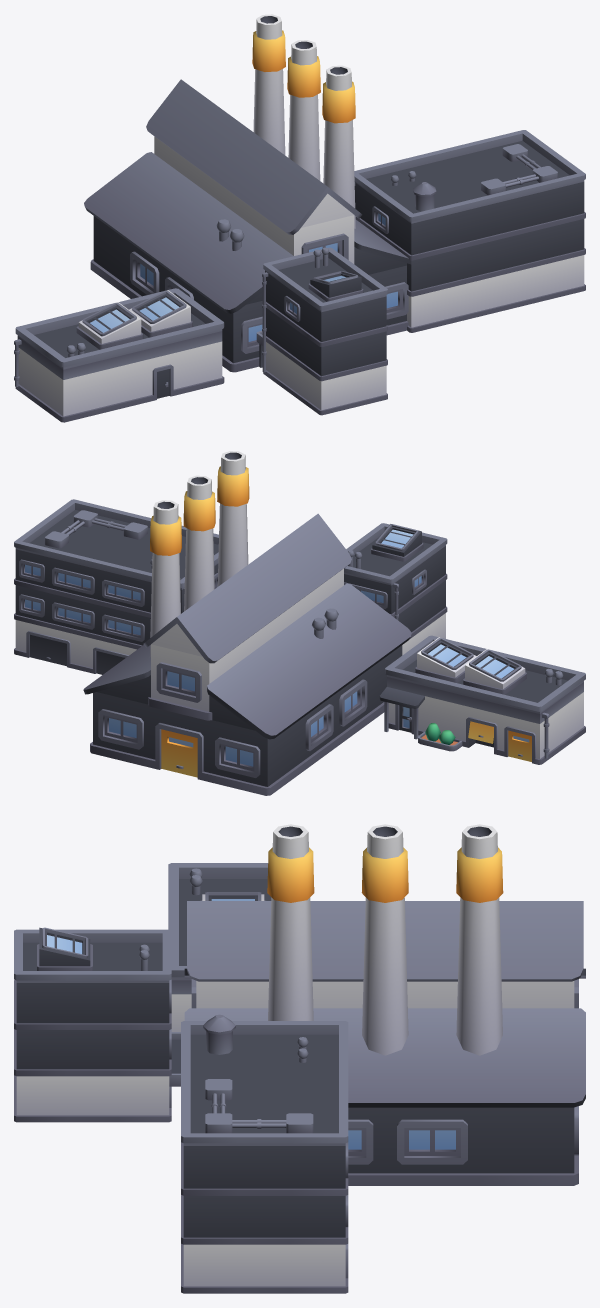
Rendered from factory.glb.
3 views of the same model, one above another, from view 1: azimuth 30°, elevation 25°; view 2: azimuth 150°, elevation 25°; view 3: azimuth 270°, elevation 25° (orthographic). The views are drawn at different scales.
Parts seen in each view (by area): view 1: building-m, building-a, building-p, building-d; view 2: building-m, building-a, building-p, building-d; view 3: building-m, building-a, building-d, building-p.
Part boxes in pixels (x1,y1,x2,y2): building-m: (84, 14, 411, 372); building-a: (354, 130, 585, 332); building-p: (14, 288, 224, 422); building-d: (256, 247, 387, 415); building-m: (83, 451, 411, 795); building-a: (14, 499, 218, 674); building-p: (379, 635, 585, 764); building-d: (344, 523, 447, 655); building-m: (184, 824, 585, 1185); building-a: (181, 1014, 348, 1293); building-d: (14, 927, 180, 1122); building-p: (168, 863, 271, 1031).
Size of the model in its own units: 83 by 35.74 by 57.
1 material, 1 textured.
